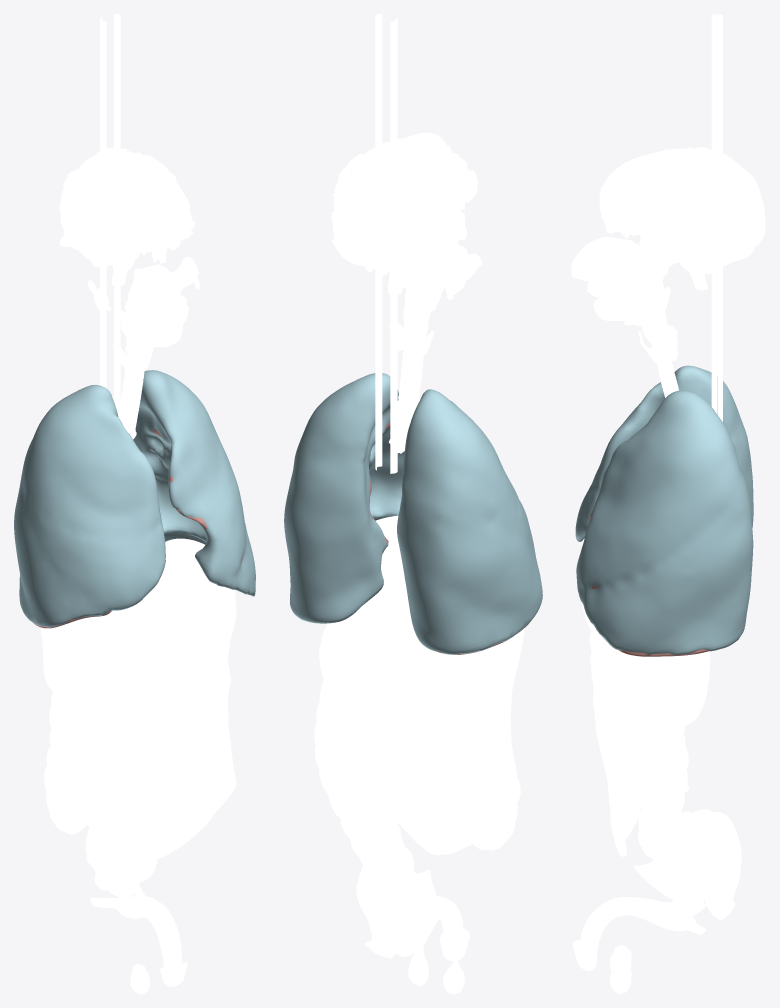
The model's file is body-organs.glb.
The picture shows the model from 3 angles, left to right: view 1: azimuth 30°, elevation 25°; view 2: azimuth 150°, elevation 25°; view 3: azimuth 270°, elevation 25°; orthographic projection. The views are drawn at different scales.
Parts seen in each view (by area): view 1: Pleura, Greater omentum, Liver, White matter of telencephalon.r, Ascending colon, White matter of telencephalon.l, Corpus cavernosum of penis, Anterior spinocerebellar tract, Stomach, Gingiva, Urinary bladder, Mucosa of nasal cavity (+6 smaller); view 2: Pleura, Greater omentum, White matter of telencephalon.r, Ascending colon, Descending colon, Sigmoid colon, Liver, Kidney.l, Posterior spinocerebellar tract, White matter of telencephalon.l, Anterior spinocerebellar tract, Kidney.r (+15 smaller); view 3: Pleura, White matter of telencephalon.l, Greater omentum, Descending colon, Sigmoid colon, Corpus cavernosum of penis, Mucosa of nasal cavity, Urinary bladder, Falx cerebri, Kidney.l, Anterior spinocerebellar tract, Posterior spinocerebellar tract (+12 smaller).
Part boxes in pixels (<box>): Pleura: <box>14,370,255,627</box>; Greater omentum: <box>59,639,236,861</box>; Liver: <box>40,538,229,694</box>; White matter of telencephalon.r: <box>59,153,161,267</box>; Ascending colon: <box>44,691,86,834</box>; White matter of telencephalon.l: <box>120,148,195,250</box>; Corpus cavernosum of penis: <box>90,886,182,967</box>; Anterior spinocerebellar tract: <box>100,15,120,411</box>; Stomach: <box>150,588,236,673</box>; Gingiva: <box>120,296,186,347</box>; Urinary bladder: <box>91,841,157,885</box>; Mucosa of nasal cavity: <box>140,264,185,319</box>; Pleura: <box>284,373,542,654</box>; Greater omentum: <box>348,667,516,855</box>; White matter of telencephalon.r: <box>367,140,477,265</box>; Ascending colon: <box>462,694,520,849</box>; Descending colon: <box>315,680,414,883</box>; Sigmoid colon: <box>356,840,414,958</box>; Liver: <box>375,515,524,702</box>; Kidney.l: <box>319,621,373,702</box>; Posterior spinocerebellar tract: <box>375,15,396,473</box>; White matter of telencephalon.l: <box>331,138,405,260</box>; Anterior spinocerebellar tract: <box>376,14,397,472</box>; Kidney.r: <box>433,657,477,740</box>; Pleura: <box>575,365,753,655</box>; White matter of telencephalon.l: <box>600,157,765,266</box>; Greater omentum: <box>590,653,651,856</box>; Descending colon: <box>640,670,711,867</box>; Sigmoid colon: <box>703,811,741,919</box>; Corpus cavernosum of penis: <box>579,897,706,954</box>; Mucosa of nasal cavity: <box>571,236,632,282</box>; Urinary bladder: <box>634,861,711,901</box>; Falx cerebri: <box>599,148,764,238</box>; Kidney.l: <box>674,651,710,725</box>; Anterior spinocerebellar tract: <box>711,14,717,413</box>; Posterior spinocerebellar tract: <box>717,14,722,421</box>.
Size of the model in its own units: 0.2634 by 1.13 by 0.2052.
